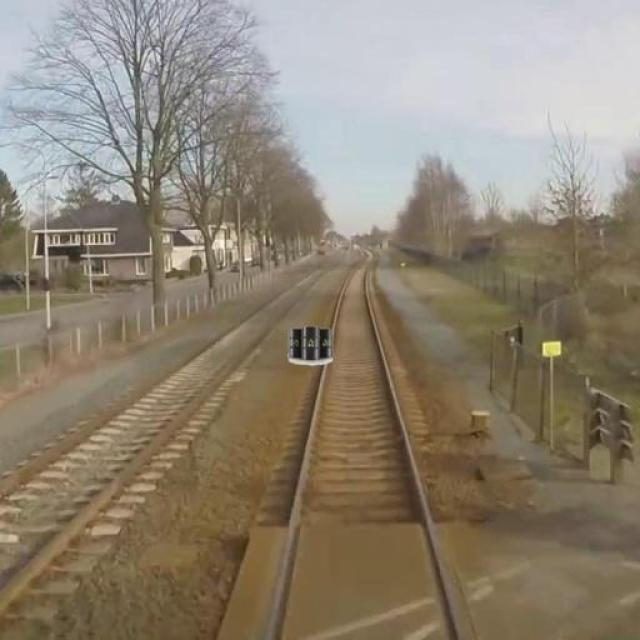Other_objects: (277, 318, 338, 375)
